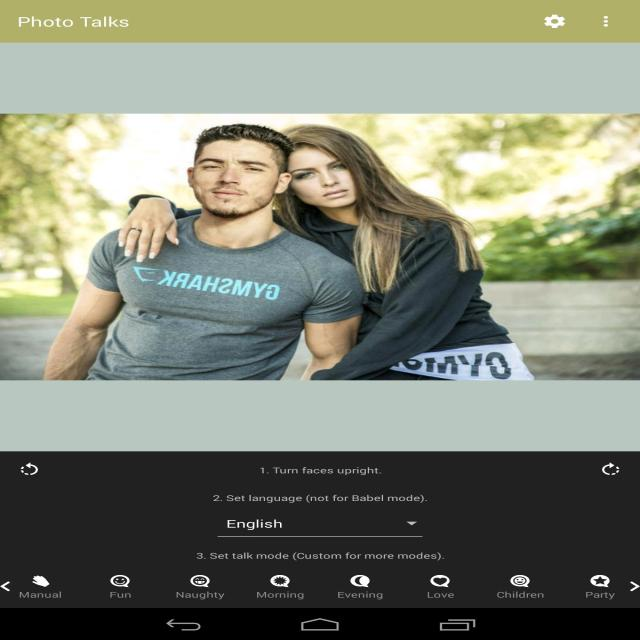button: (219, 508, 422, 536), (486, 564, 550, 602), (252, 568, 309, 606), (335, 567, 389, 606), (178, 566, 228, 608), (412, 568, 466, 604), (566, 568, 620, 603), (582, 454, 638, 487), (96, 567, 143, 606), (22, 568, 66, 606), (11, 456, 54, 483), (586, 8, 624, 36), (536, 11, 576, 35), (0, 569, 18, 606), (628, 570, 640, 607)
heading: (19, 12, 135, 34)
image: (1, 112, 640, 382)
label: (209, 552, 446, 563), (227, 492, 427, 505), (255, 464, 388, 478)
